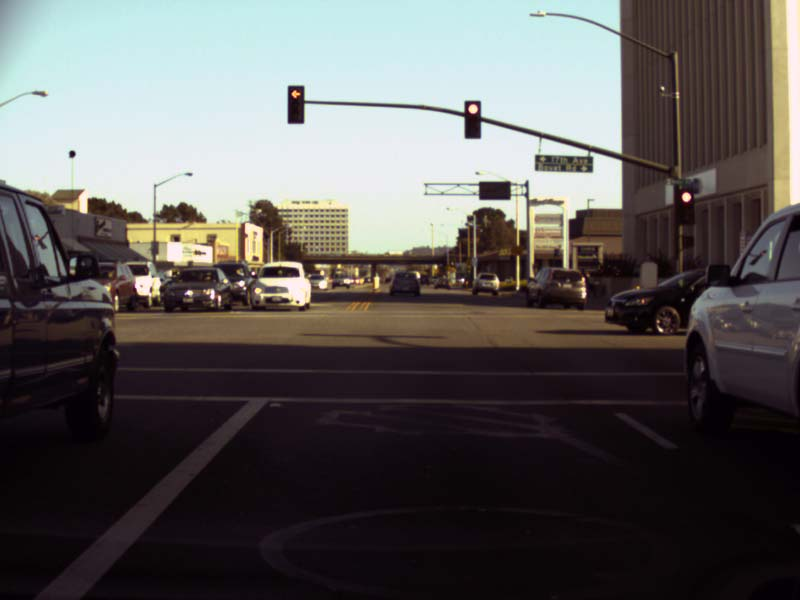Red: (463, 100, 481, 138), (287, 85, 304, 124), (676, 188, 693, 226)
